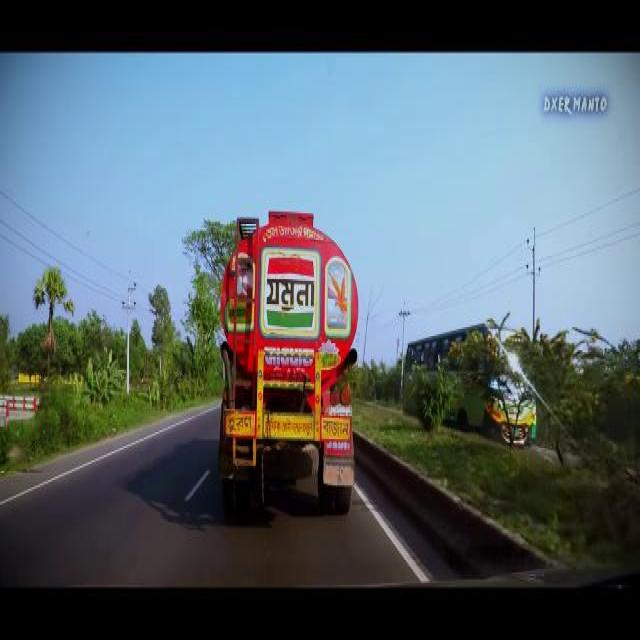bus: (450, 314, 538, 436)
truck: (216, 201, 359, 523)
